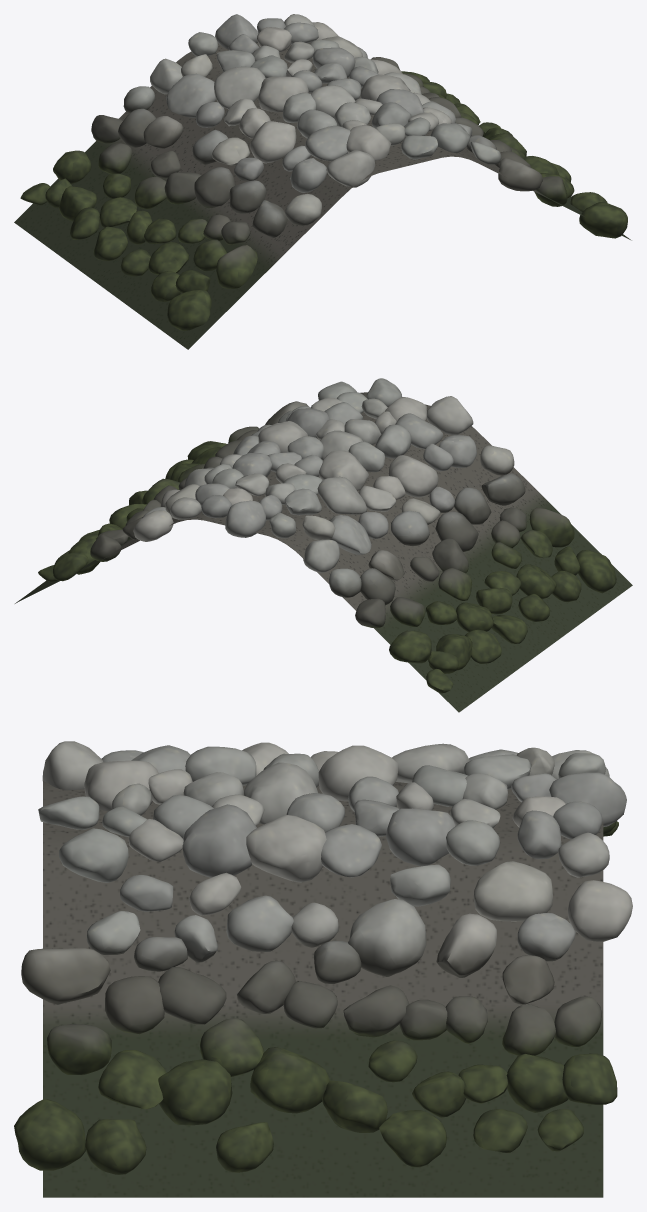
The model's file is Jetty_Straight.gltf.
3 renders of one model, top to bottom at view 1: azimuth 30°, elevation 25°; view 2: azimuth 150°, elevation 25°; view 3: azimuth 270°, elevation 25°, orthographic. The views are drawn at different scales.
Visible parts, largest first — view 1: Jetty_Straight; view 2: Jetty_Straight; view 3: Jetty_Straight.
Boxes of the visible parts, x1=… form: Jetty_Straight: x1=14, y1=14, x2=631, y2=349; Jetty_Straight: x1=15, y1=378, x2=632, y2=712; Jetty_Straight: x1=14, y1=741, x2=632, y2=1197.
Bounding box in the file's own units: 14.76 × 4.9 × 11.04.
2 materials, 2 textured.
